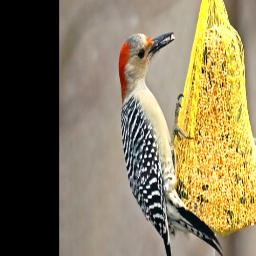Woodpecker: (103, 22, 228, 256)
